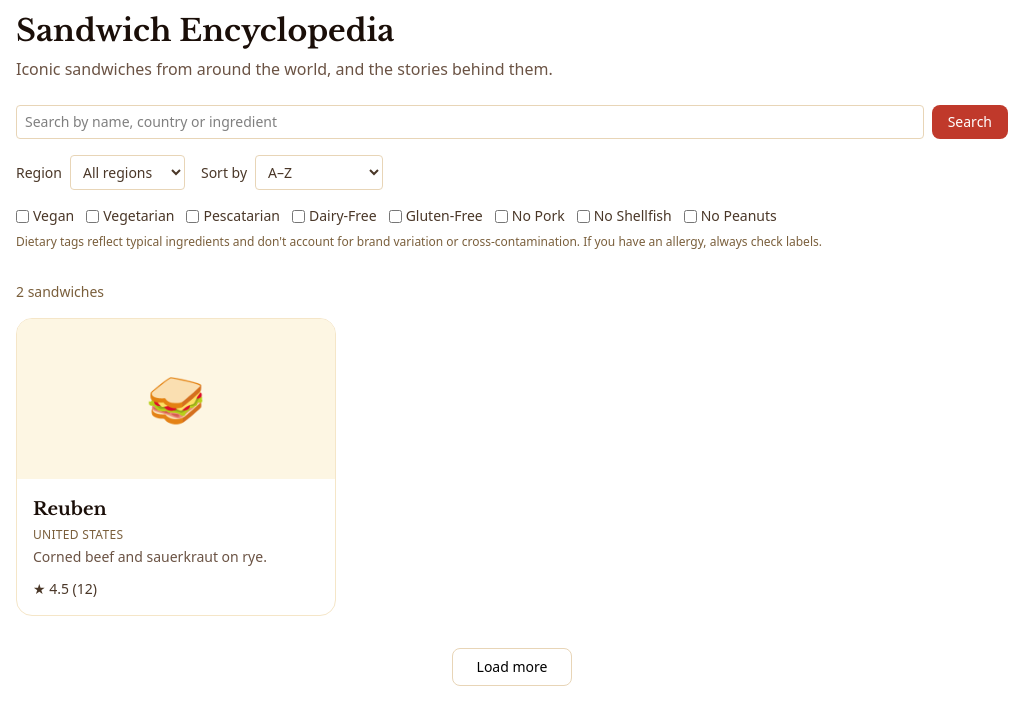
Test case: SandwichIndex pagination › loads the next page and appends it
Check: the heading "Reuben" is shown, box [33,498,107,520]
Step 1. Click the button "Load more" → (512, 667), box [452,648,572,686]
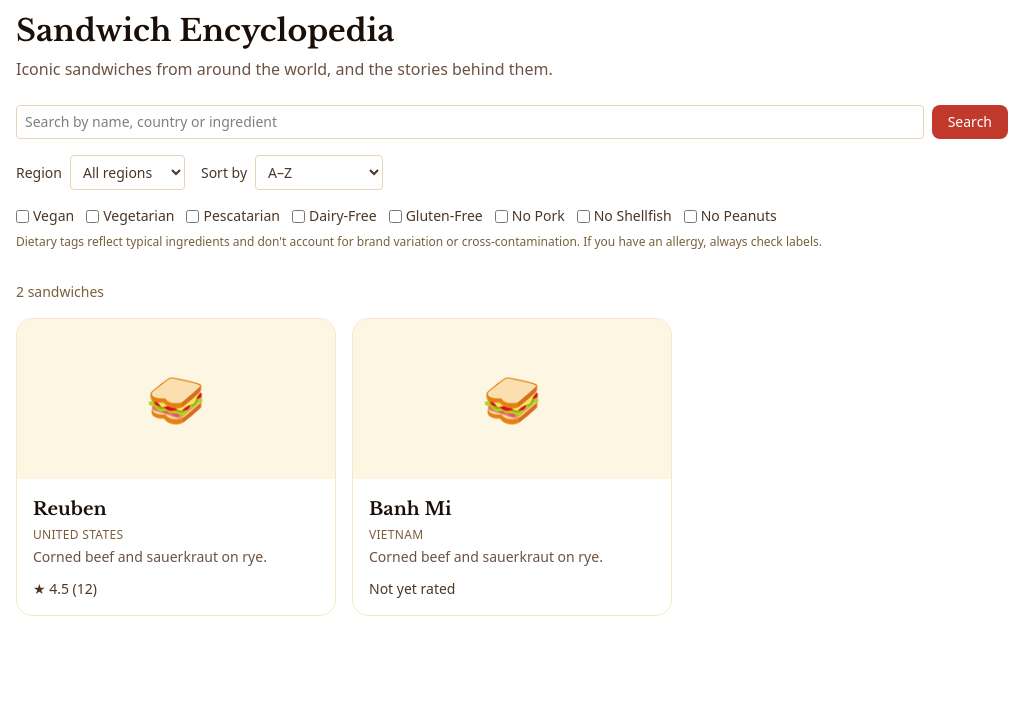
Check: the heading "Reuben" is shown, box [33,498,107,520]
Check: the heading "Banh Mi" is shown, box [369,498,452,520]
